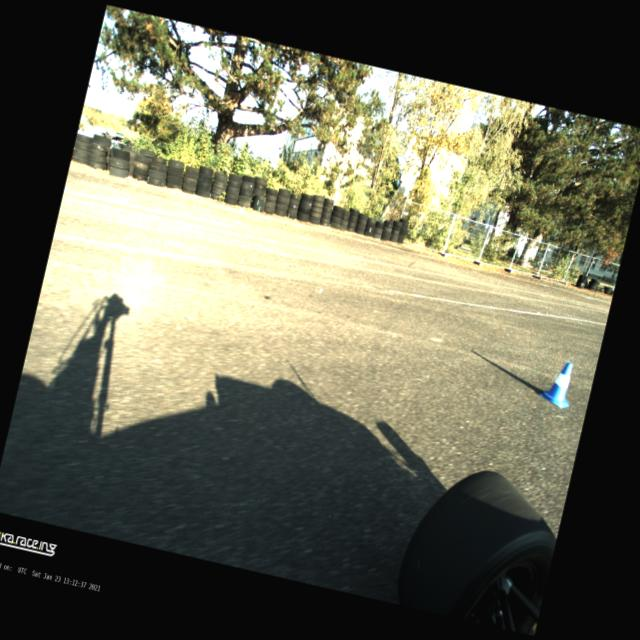blue_cone: (537, 357, 578, 410)
